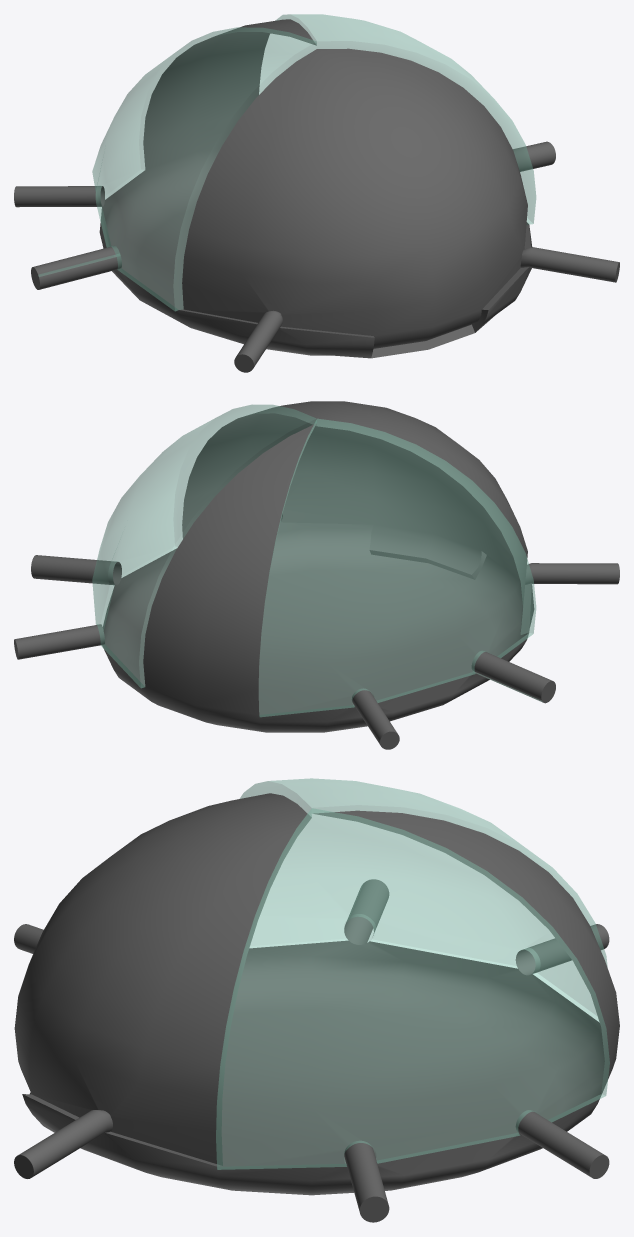
Rendered from Beetle.fbx.
3 views of the same model, one above another, from view 1: azimuth 30°, elevation 25°; view 2: azimuth 150°, elevation 25°; view 3: azimuth 270°, elevation 25° (orthographic). The views are drawn at different scales.
Visible parts, largest first — view 1: pSphere3; view 2: pSphere3; view 3: pSphere3.
Boxes of the visible parts, x1=… form: pSphere3: x1=14, y1=14, x2=619, y2=372; pSphere3: x1=14, y1=401, x2=619, y2=749; pSphere3: x1=14, y1=778, x2=619, y2=1222.
Bounding box in the file's own units: 101 × 43.48 × 81.13.
